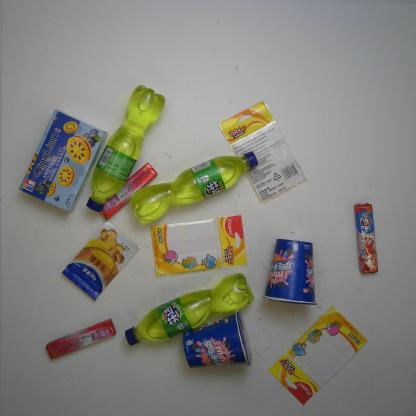Candy: (97, 162, 157, 220), (45, 318, 117, 362), (352, 202, 380, 276)
Dessert: (18, 110, 108, 212), (260, 237, 318, 309), (181, 311, 254, 368)
Drink: (84, 84, 164, 212), (128, 150, 258, 228), (124, 272, 254, 345)
Seasoner: (61, 219, 141, 301)
Stationery: (268, 302, 370, 407), (218, 101, 309, 208), (150, 213, 248, 279)
